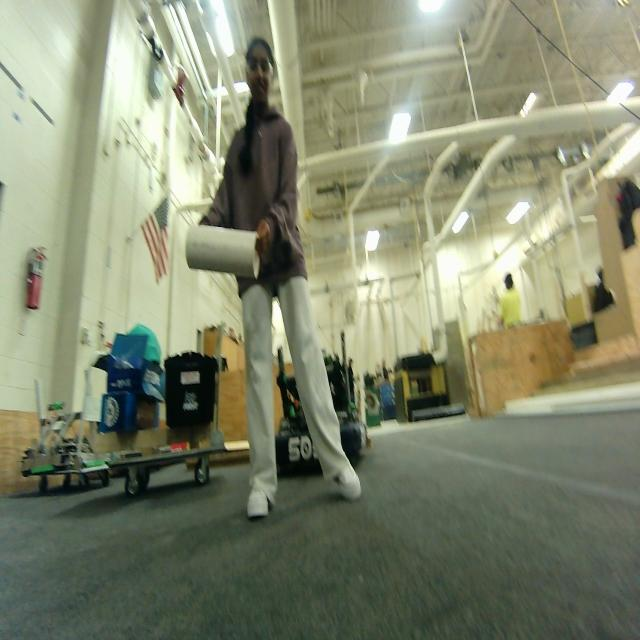coral: (186, 224, 259, 284)
